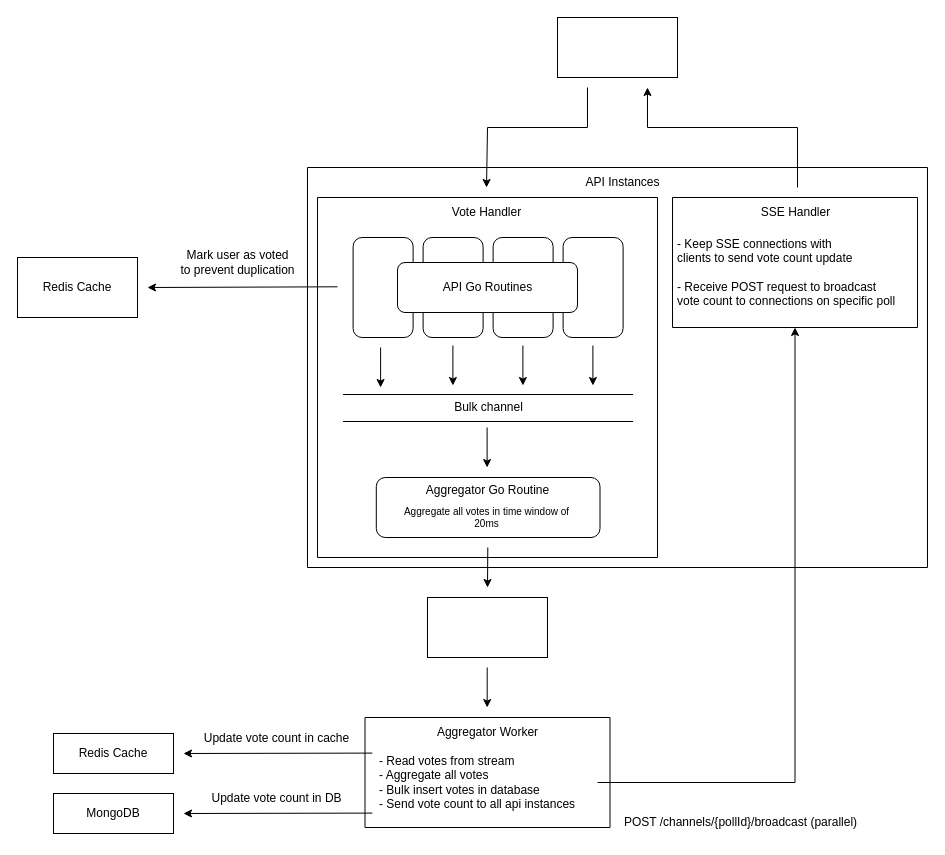
Some shapes in this 945 by 855 pixel diagram are drawn without their labels. The shapes that lost their labels are listed below. From the top down, each one's centre as x and y in pixels, then its label:
At point (617, 47): "Client (Browser)".
At point (487, 627): "Redis Stream".
